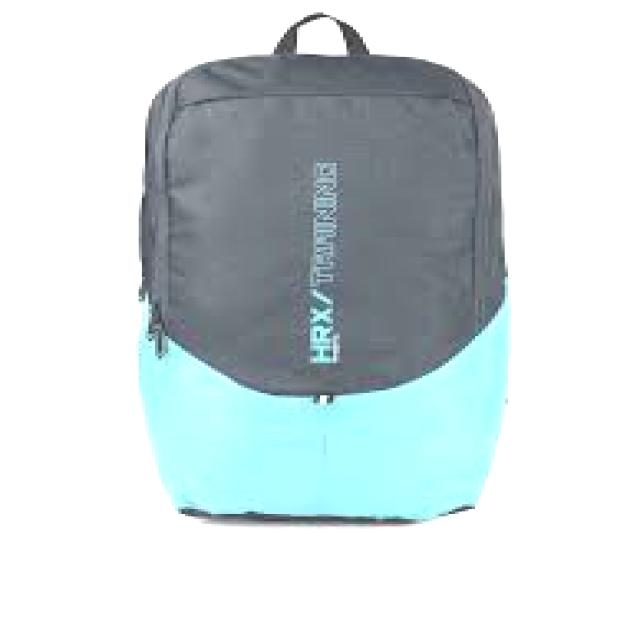backpack: (133, 11, 513, 523)
